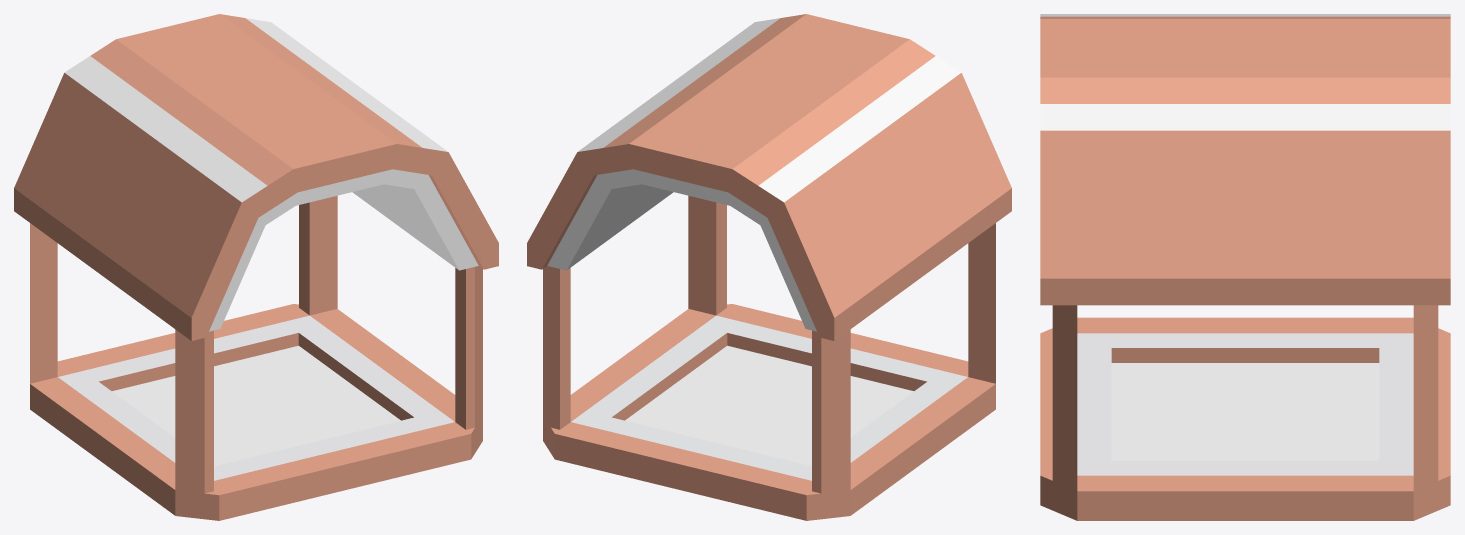
File: buildingOpen.glb
3 renders of one model, left to right at view 1: azimuth 30°, elevation 25°; view 2: azimuth 150°, elevation 25°; view 3: azimuth 270°, elevation 25°, orthographic. The views are drawn at different scales.
Visible parts, largest first — view 1: buildingOpen; view 2: buildingOpen; view 3: buildingOpen.
Part boxes in pixels (left/top/right/bottom): buildingOpen: left=14, top=14, right=498, bottom=520; buildingOpen: left=527, top=14, right=1011, bottom=520; buildingOpen: left=1040, top=14, right=1450, bottom=520.
Size of the model in its own units: 10 by 10.37 by 10.
